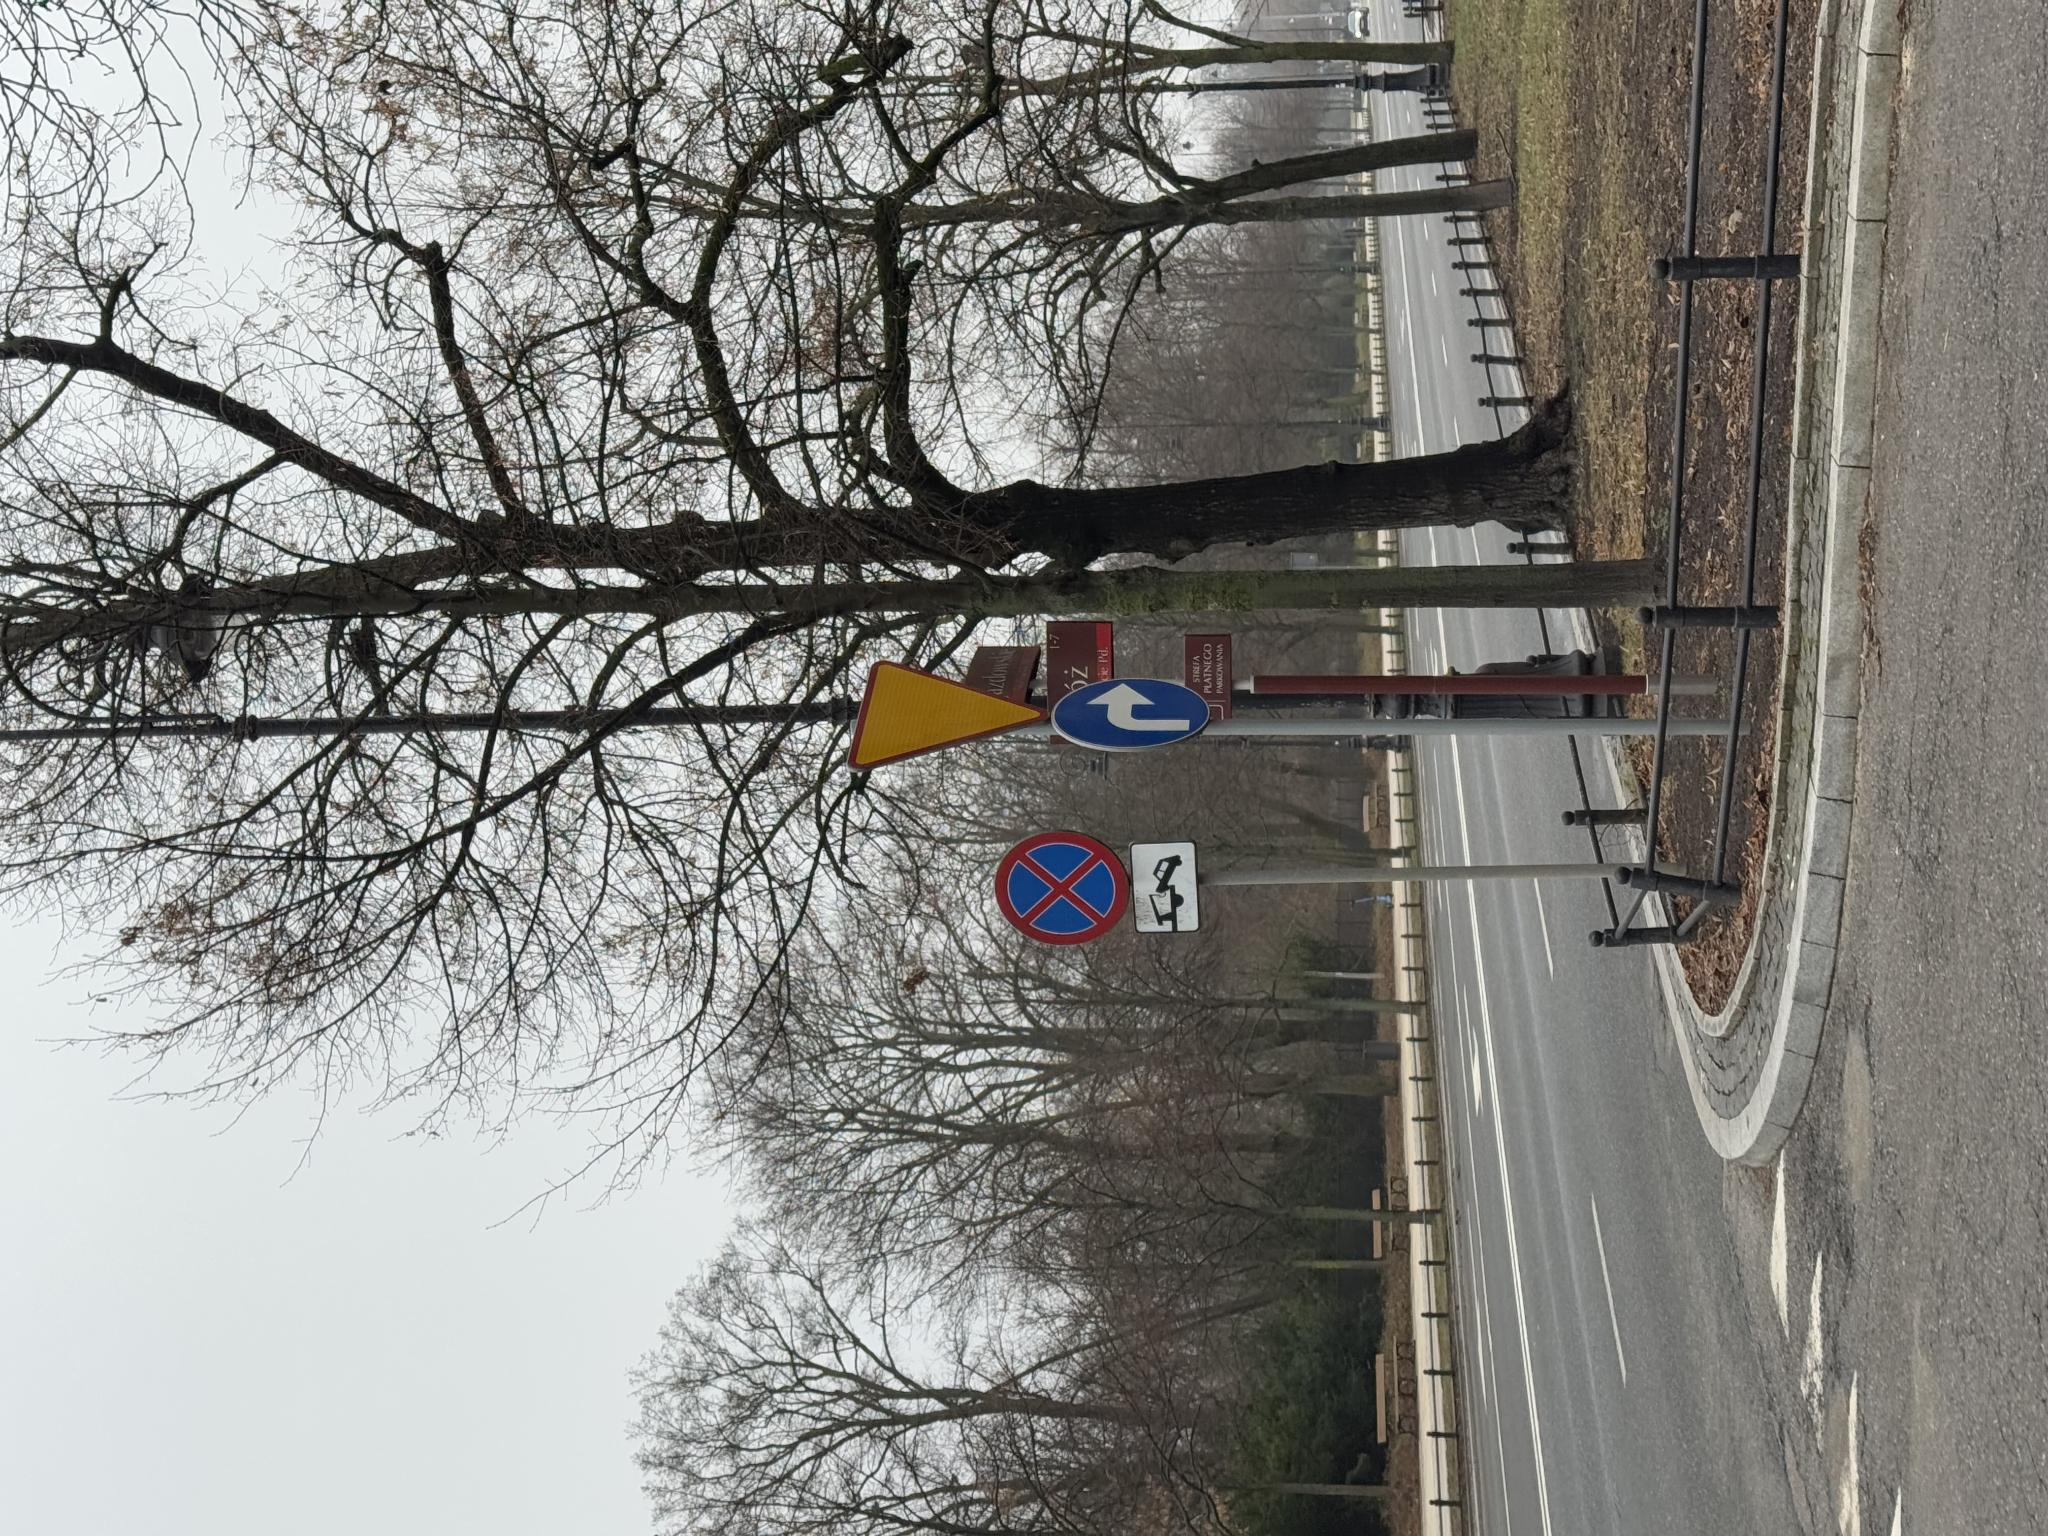mandatory: (784, 1052, 860, 1212)
other: (601, 1133, 700, 1199)
prohibitory: (590, 994, 706, 1133)
warning: (763, 847, 877, 1052)
